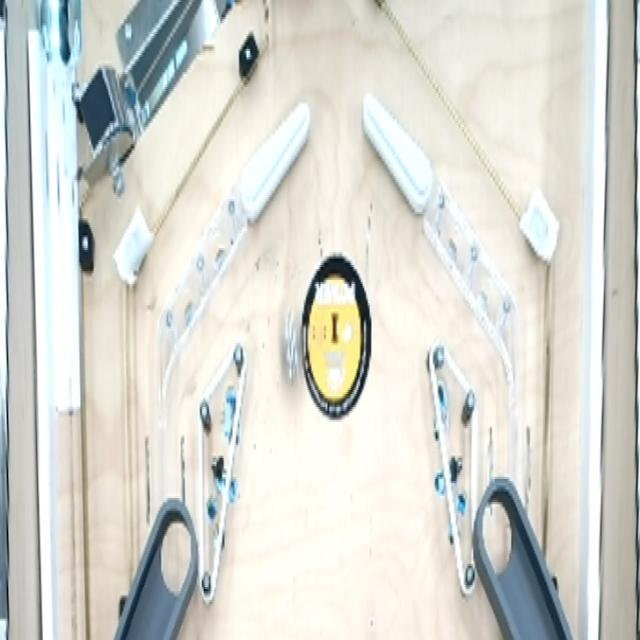ball: (274, 308, 304, 381)
flipper-left: (358, 87, 439, 220)
flipper-right: (238, 93, 314, 230)
